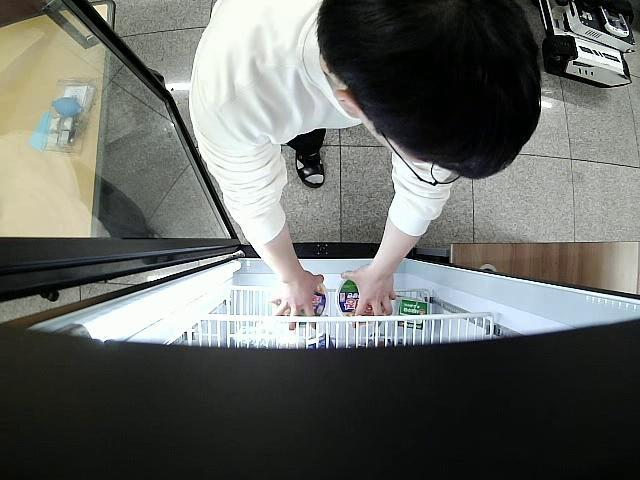09_yukGaeJang: (274, 281, 327, 326), (338, 280, 385, 327)
